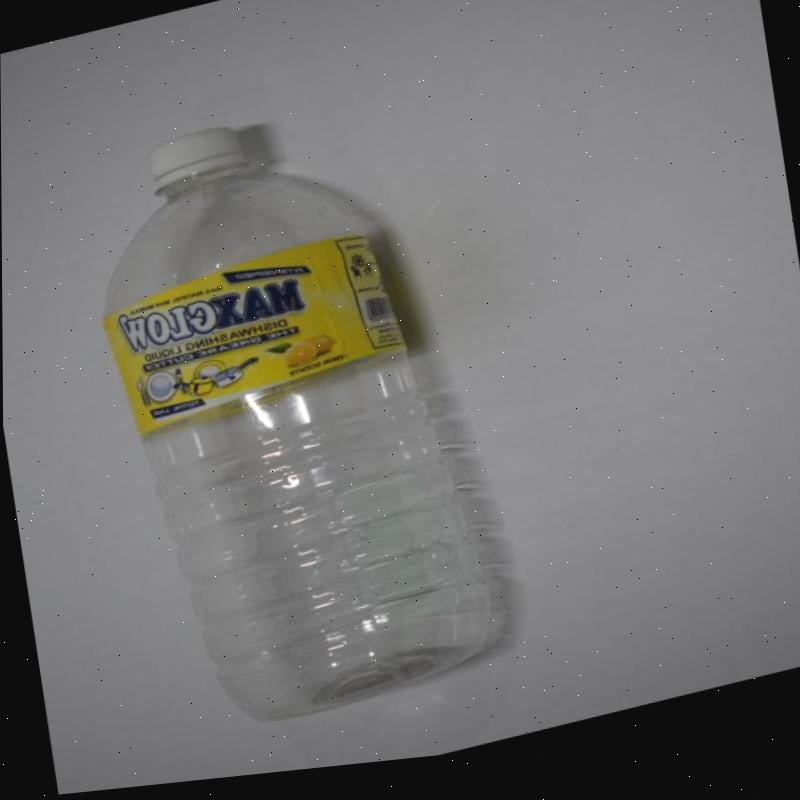botella: (76, 77, 507, 762)
